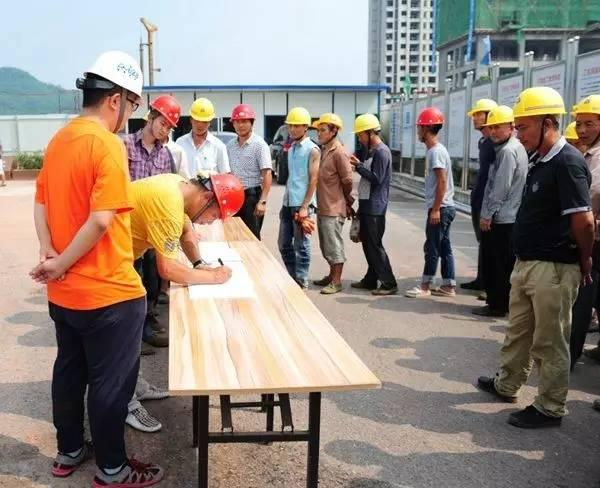helmet: (83, 52, 148, 106), (210, 171, 246, 226), (513, 87, 568, 119), (150, 95, 184, 129), (416, 107, 448, 130), (483, 106, 516, 128), (190, 99, 218, 124), (353, 113, 382, 136), (572, 95, 600, 117), (315, 113, 346, 132), (468, 99, 496, 118), (230, 106, 259, 124), (285, 108, 313, 126)
